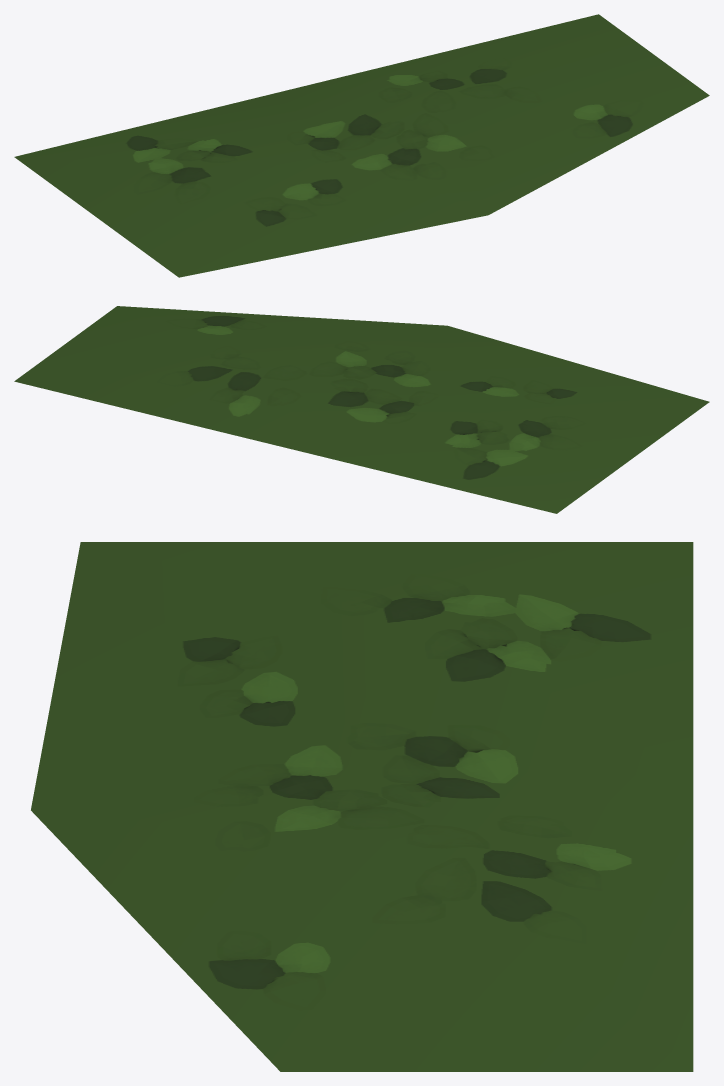
Rendered from SM_Env_Leaves_03.fbx.
The picture shows the model from 3 angles, top to bottom: view 1: azimuth 30°, elevation 25°; view 2: azimuth 150°, elevation 25°; view 3: azimuth 270°, elevation 25°; orthographic projection. The views are drawn at different scales.
Visible parts, largest first — view 1: SM_Env_Leaves_03_LOD0; view 2: SM_Env_Leaves_03_LOD0; view 3: SM_Env_Leaves_03_LOD0.
Boxes of the visible parts, box(x1,y1,x2,y2) form: SM_Env_Leaves_03_LOD0: box(14, 14, 709, 277); SM_Env_Leaves_03_LOD0: box(14, 306, 709, 513); SM_Env_Leaves_03_LOD0: box(31, 542, 693, 1071).
Size of the model in its own units: 250 by 7.25 by 132.
